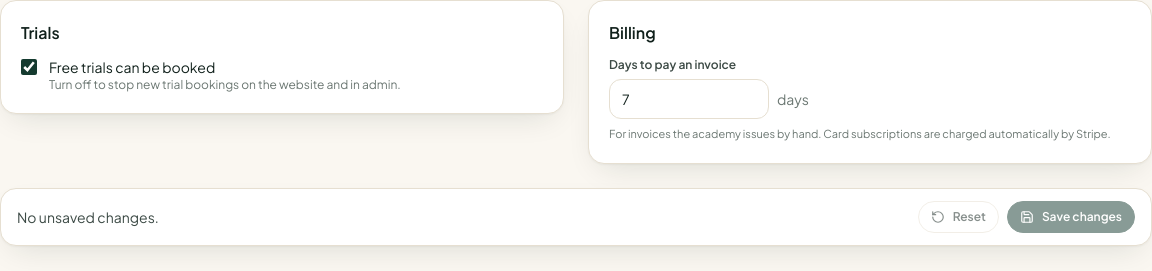
Test case: SettingsForm › flags invalid numbers and disables save; reset restores server values
Step 1. Replace the text in the number field labelled "Days to pay an invoice" with "-3" → (689, 99), box [609,79,769,119]
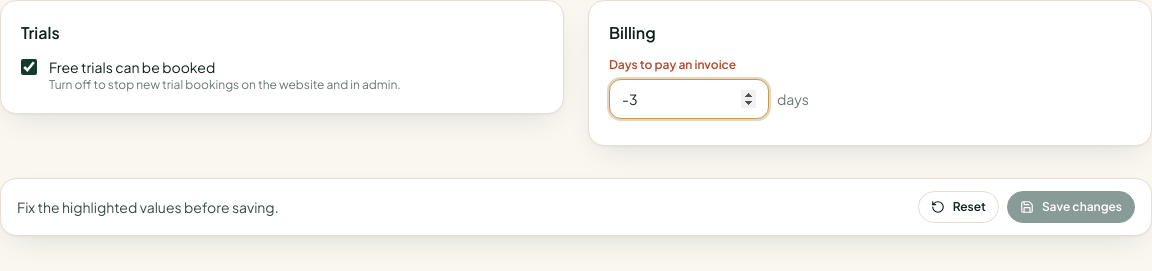
expect the button "Save changes" is disabled: met, box [1007,191,1135,223]
Step 2. Click the button "Reset" → (958, 207), box [918,191,999,223]
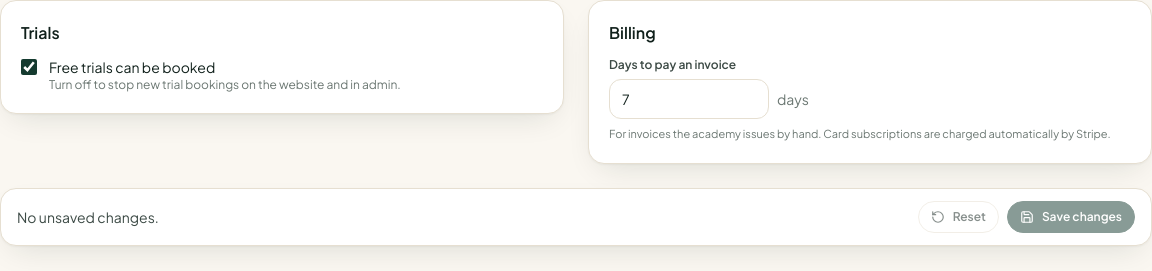
expect the number field labelled "Days to pay an invoice" holds "7": met, box [609,79,769,119]
expect the text "No unsaved changes." is shown: met, box [17,207,159,227]
